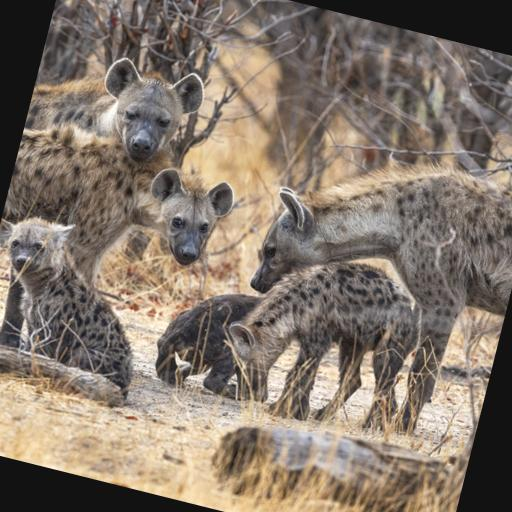hyenas: (0, 35, 512, 504)
